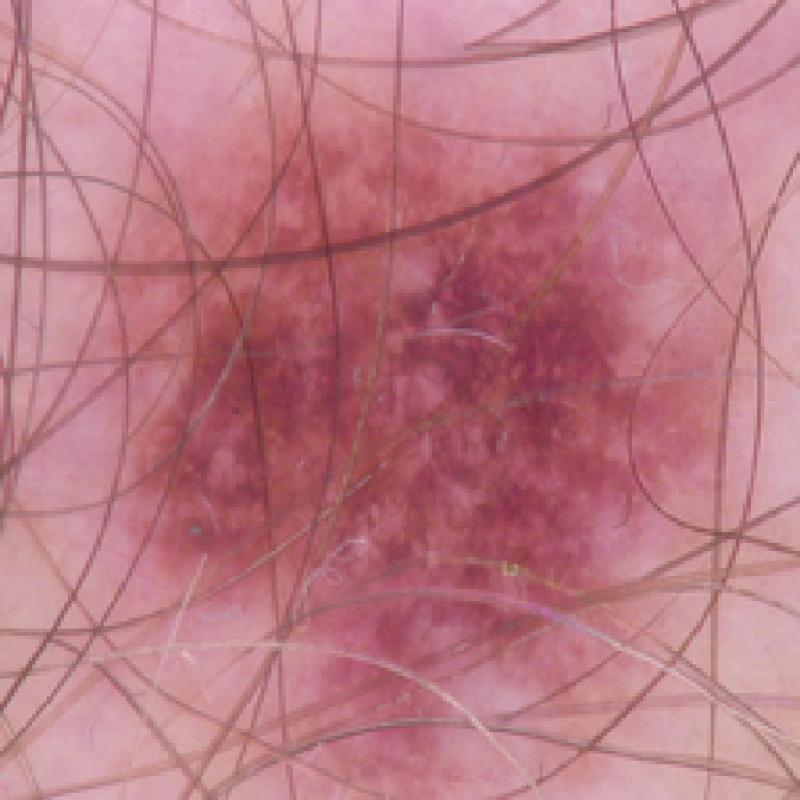benign: (117, 117, 750, 777)
